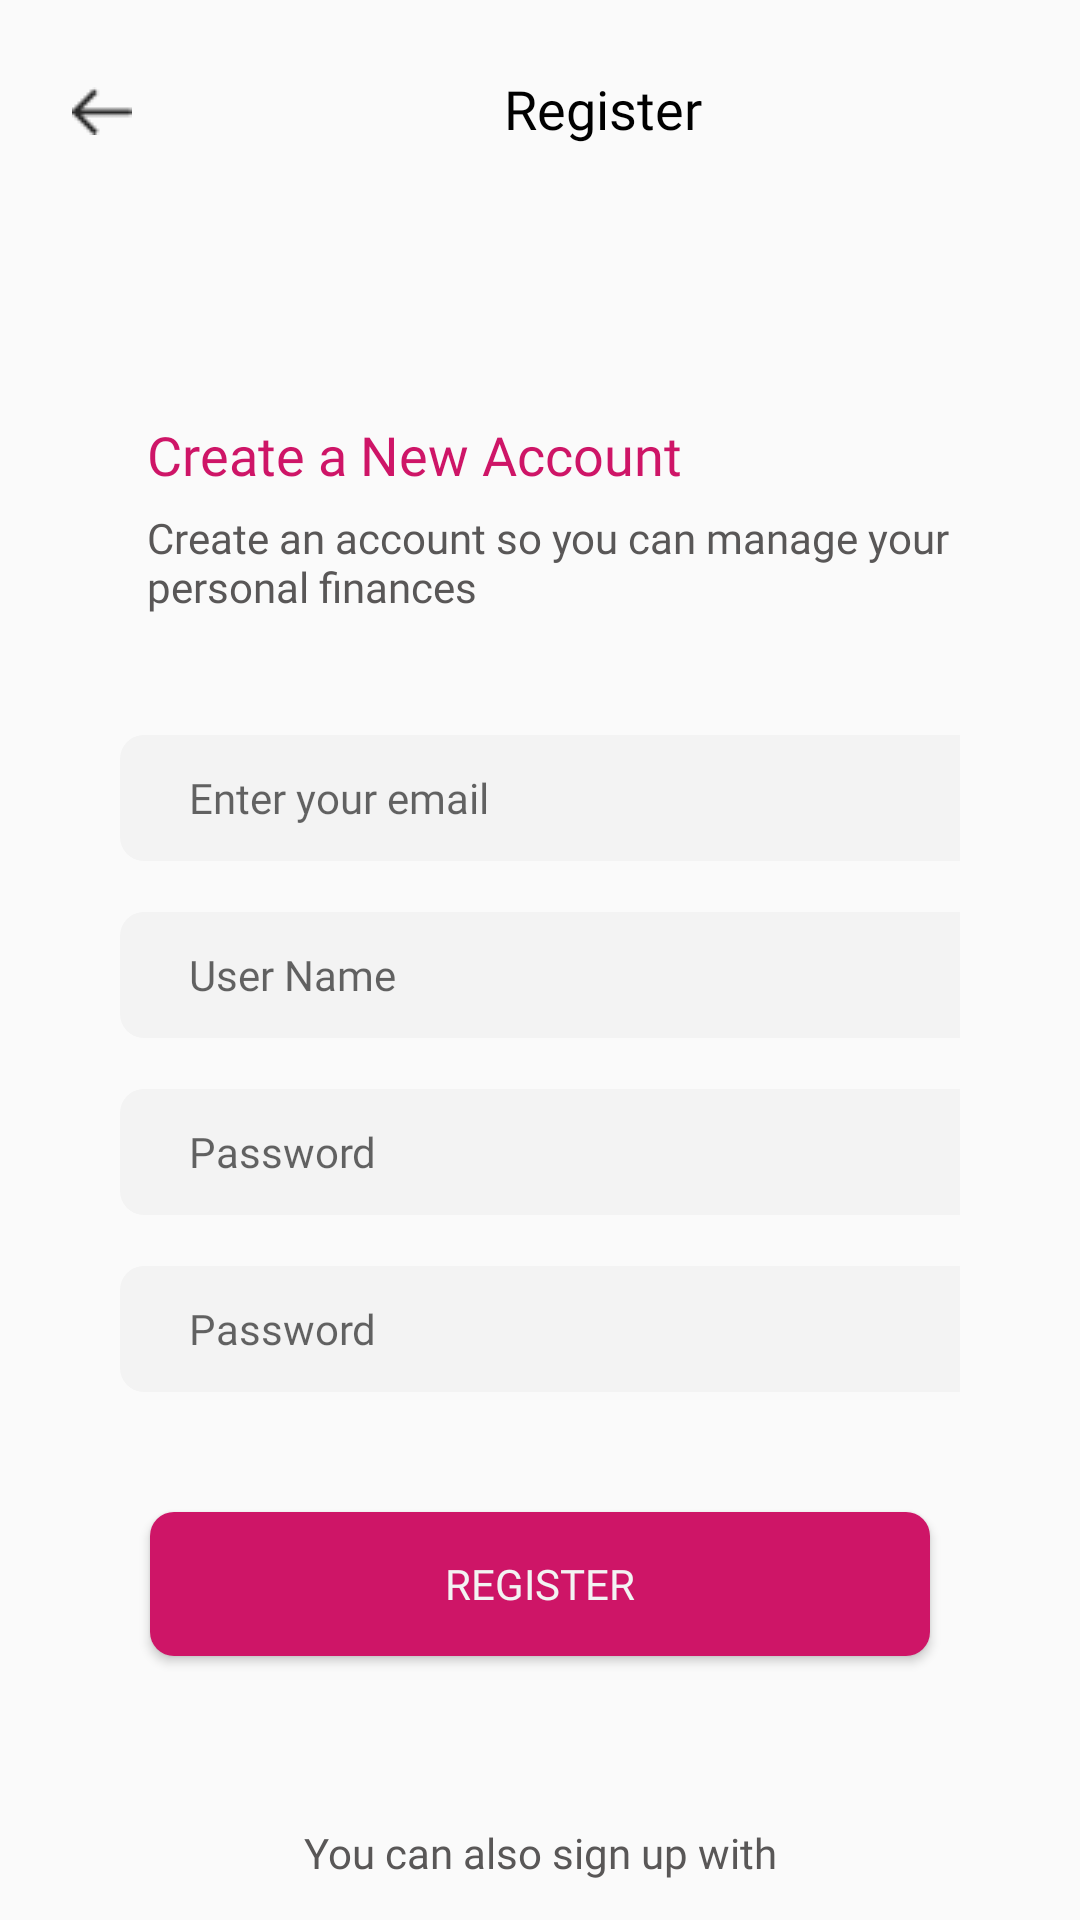

Screen size 1080w x 1920h. Icon name, then its box in pixels as bbox=[x1, y1, x2, y2]:
back: bbox=[72, 89, 132, 135]
